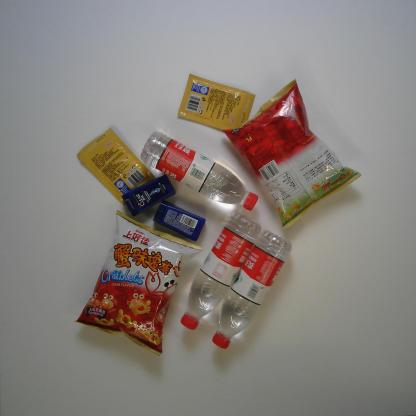Drink: (138, 128, 259, 217), (177, 207, 262, 331), (211, 228, 292, 352)
Personal Hygiene: (119, 171, 179, 219), (150, 202, 207, 246)
Puffed Food: (68, 204, 213, 361), (221, 78, 365, 230)
Seasoner: (77, 126, 160, 212), (175, 70, 255, 138)
